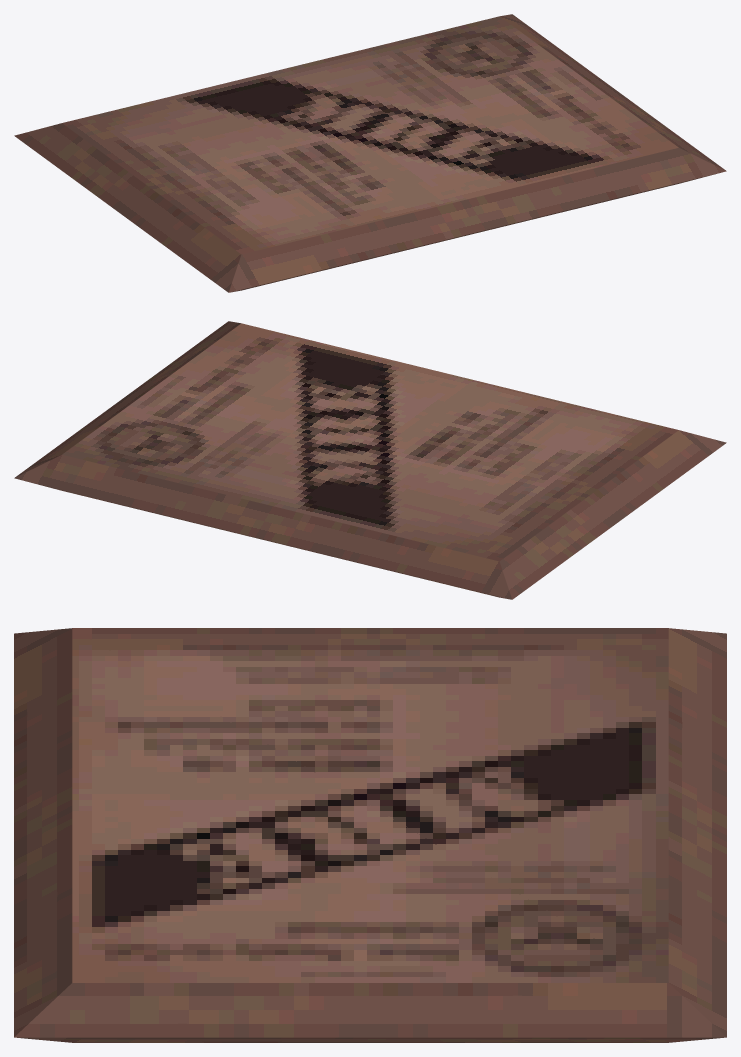
Rendered from army.glb.
3 views of the same model, one above another, from view 1: azimuth 30°, elevation 25°; view 2: azimuth 150°, elevation 25°; view 3: azimuth 270°, elevation 25° (orthographic). The views are drawn at different scales.
Parts seen in each view (by area): view 1: Cube; view 2: Cube; view 3: Cube.
Part boxes in pixels (x1,y1,x2,y2): Cube: (14,14,726,292); Cube: (14,321,726,599); Cube: (14,628,726,1042).
Size of the model in its own units: 3.22 by 0.2227 by 2.4.
1 material, 1 textured.
